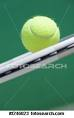tennis ball: (19, 15, 62, 55)
